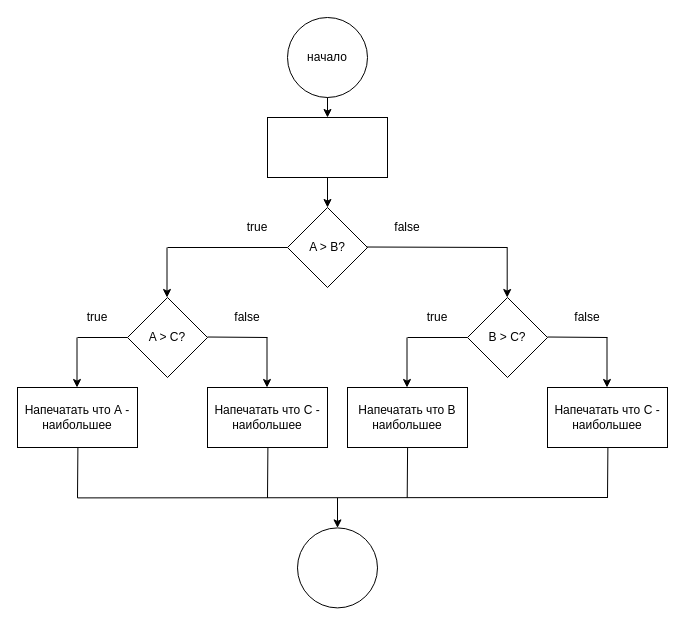
This 685x626 diagram has some shape labels left out. Here are the shapes that lost their labels. From the top down, the centre of each, then its label:
At [327,147]: "Объявление A, B, C".
At [337,567]: "конец".
